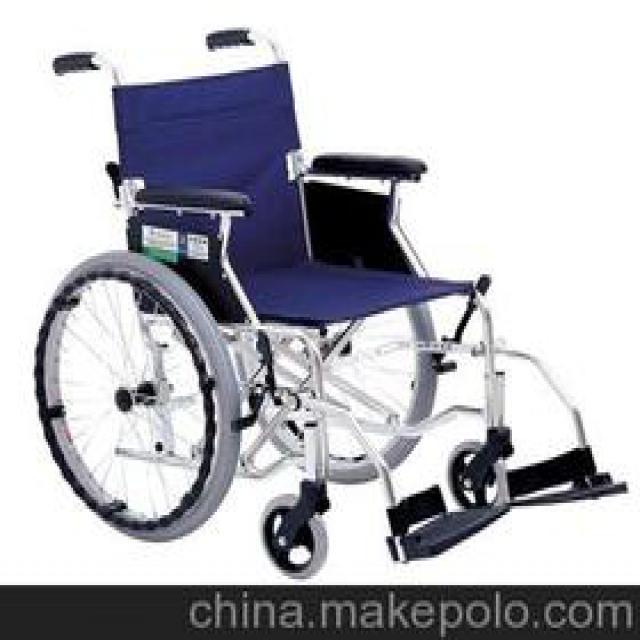wheelchair: (29, 21, 636, 564)
